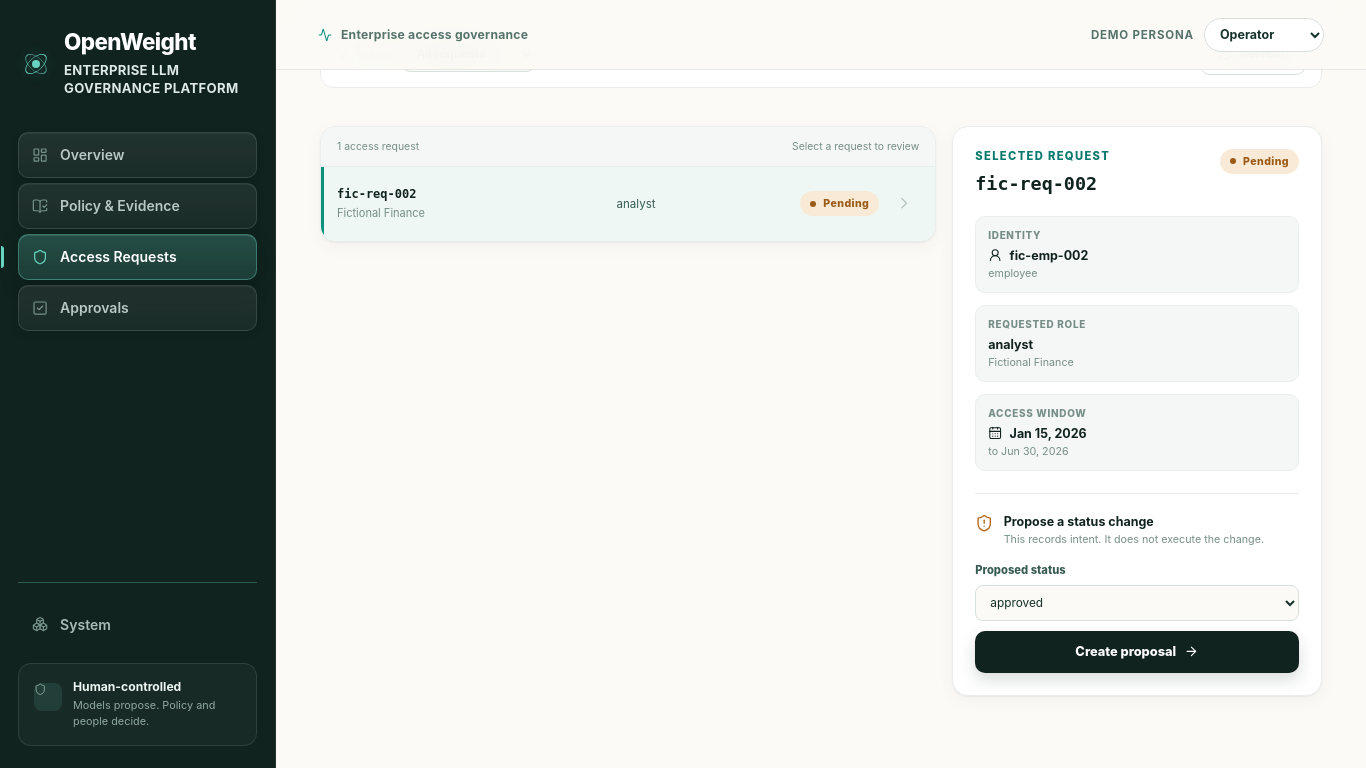
it: access proposal and human approval flow › handles a replay conflict without claiming success or exposing raw detail
(page scrolled)
Click the button "Create proposal".
click(1137, 652)  # box [975, 630, 1299, 672]
(page scrolled)
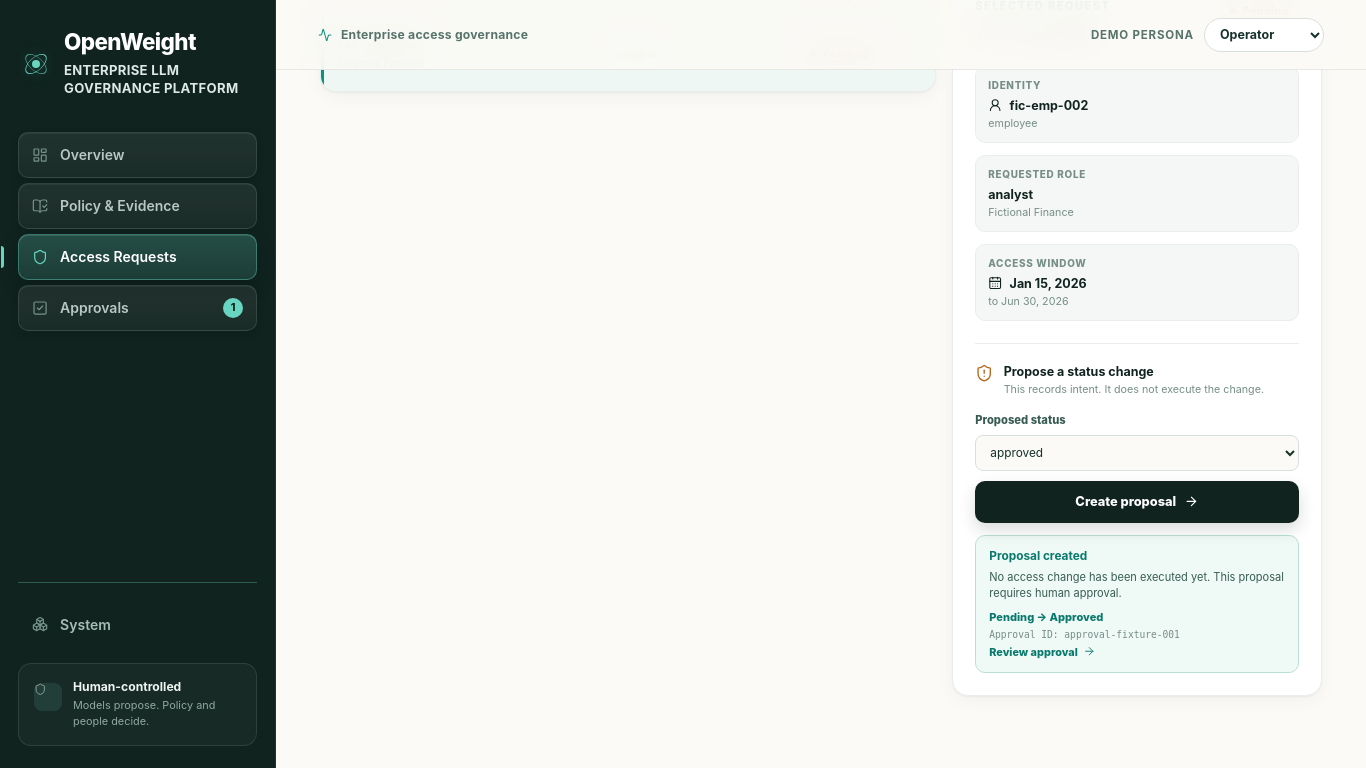
Click the button "Review approval".
click(1042, 652)  # box [989, 645, 1095, 659]
(page scrolled)
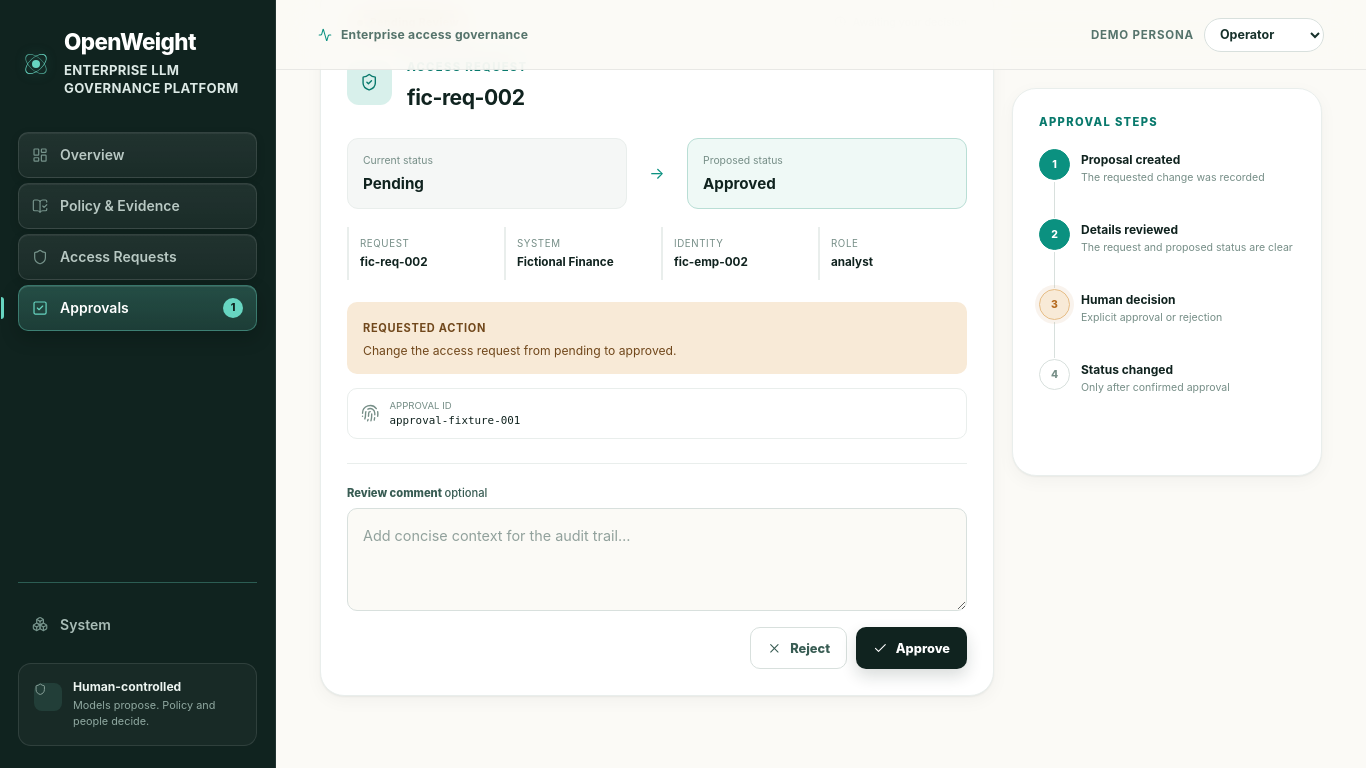
Click the button "Approve".
click(912, 648)  # box [856, 627, 967, 669]
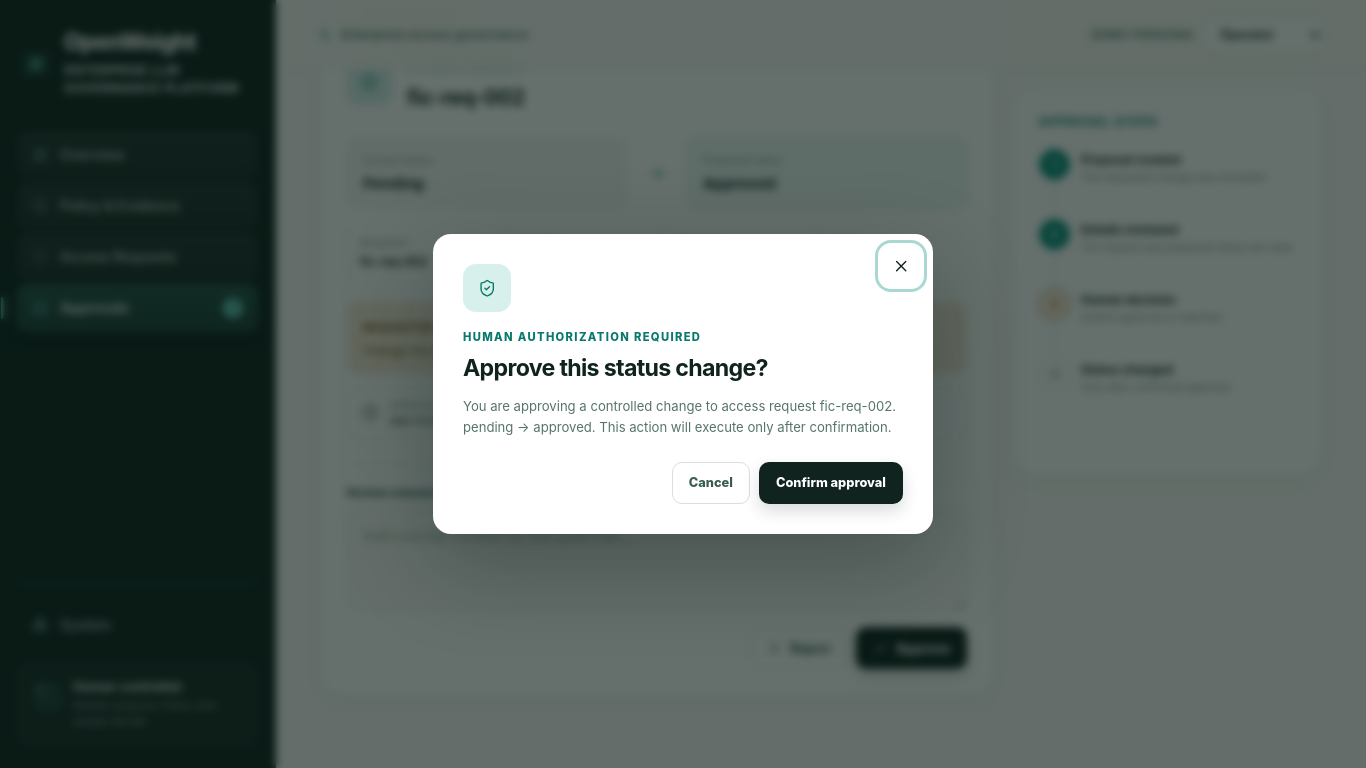
Click the button "Confirm approval".
click(831, 482)  # box [759, 462, 903, 504]
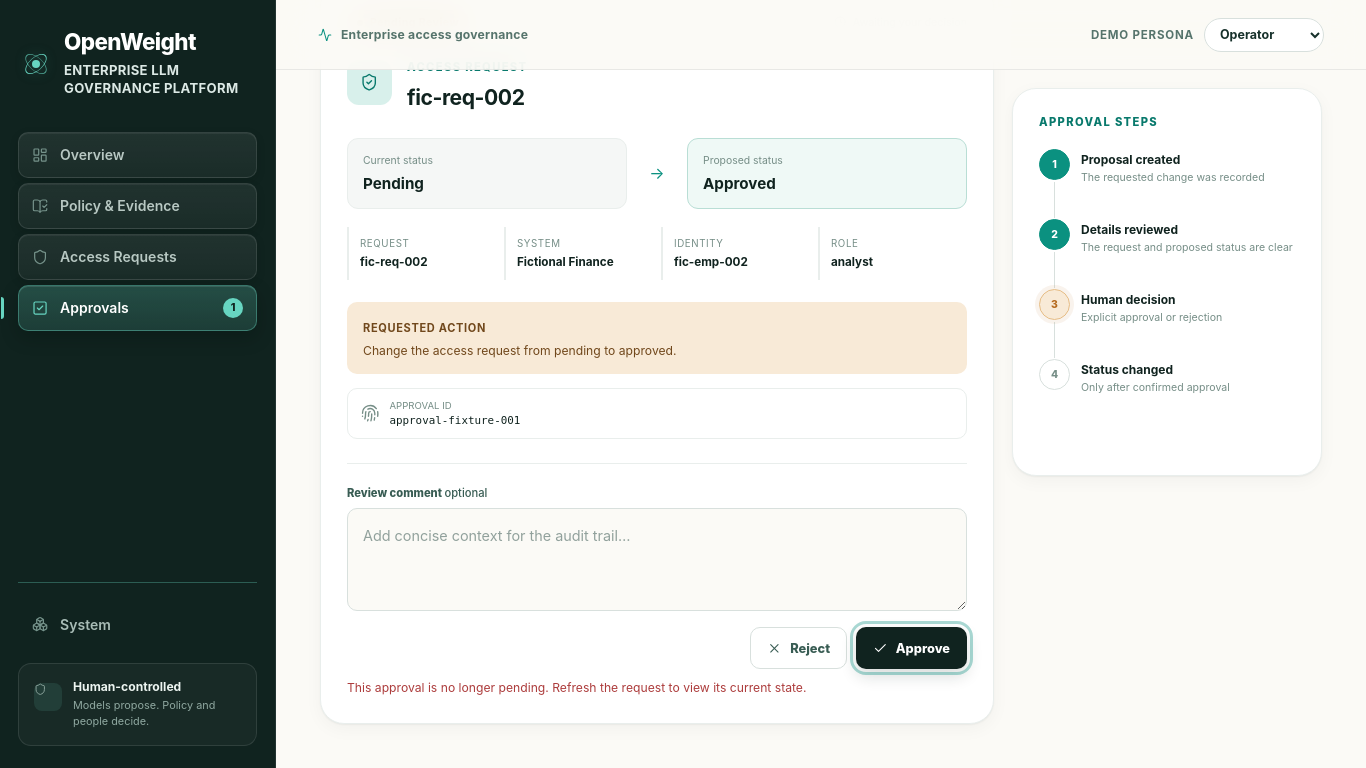
expect the text "This approval is no longer pending. Refresh the request to view its current state." is shown: met, box [347, 680, 806, 695]
